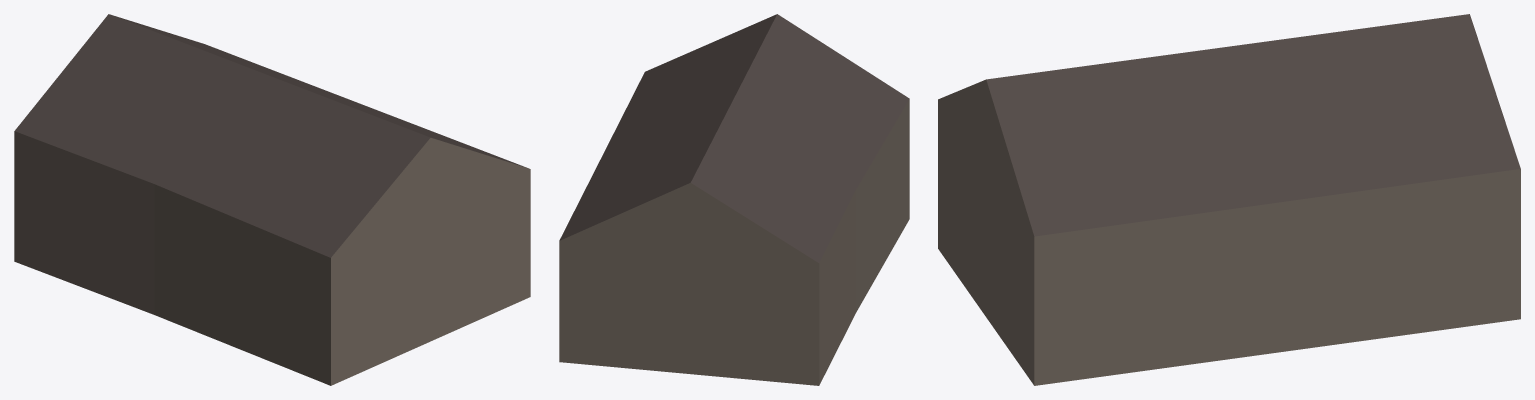
3 renders of one model, left to right at view 1: azimuth 30°, elevation 25°; view 2: azimuth 150°, elevation 25°; view 3: azimuth 270°, elevation 25°, orthographic. The views are drawn at different scales.
Parts seen in each view (by area): view 1: HP-w756797941; view 2: HP-w756797941; view 3: HP-w756797941.
Part boxes in pixels (x1,y1,x2,y2): HP-w756797941: [14, 14, 530, 385]; HP-w756797941: [559, 14, 909, 385]; HP-w756797941: [938, 14, 1520, 385].
Size of the model in its own units: 17.21 by 9.56 by 21.21.
